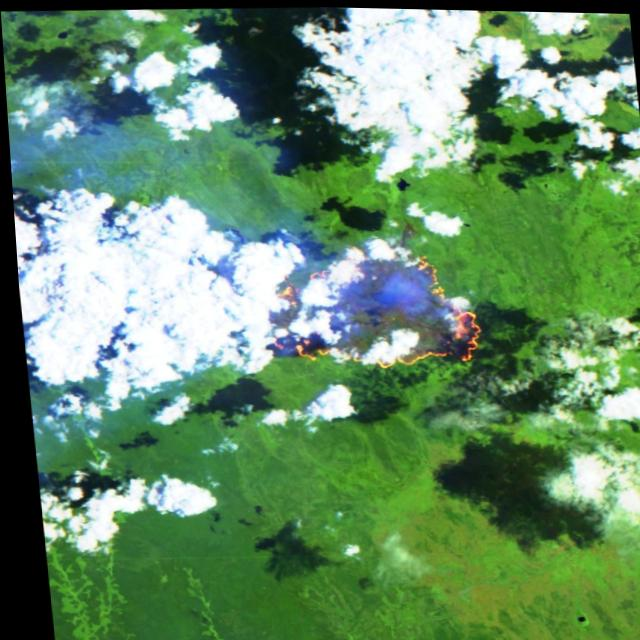fire: (234, 228, 480, 378)
